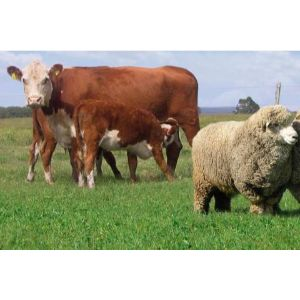cow: (74, 99, 181, 188), (6, 63, 72, 147)
sheep: (191, 105, 299, 218)
